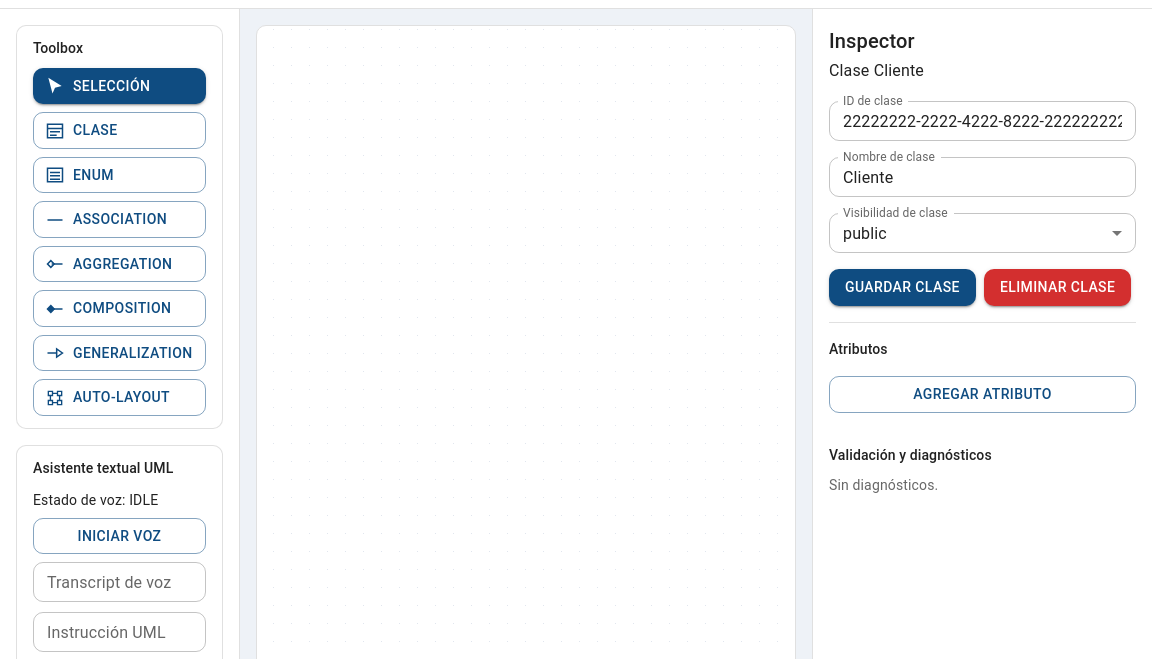
Scenario: Workspace UML manual › conserva clase y muestra diagnostics cuando DeleteClass tiene una referencia de tipo
Click the button "Eliminar clase" at (1058, 287), box [984,269,1131,306]
(page scrolled)
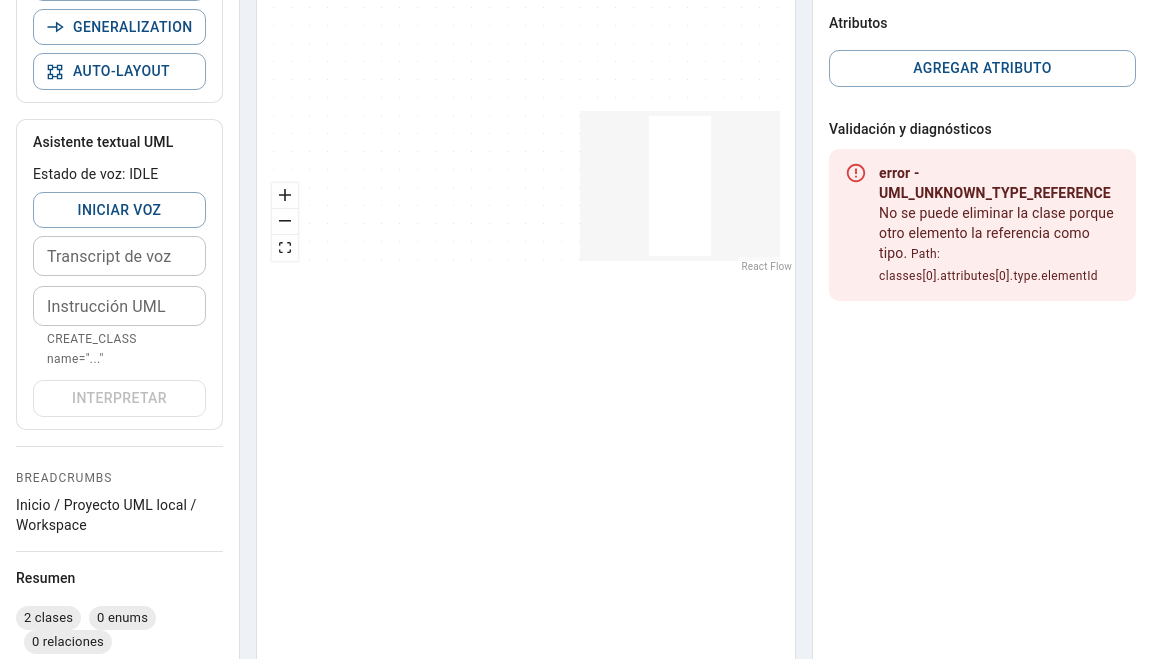
Expected: the button "Nodo clase Cliente" is shown, [256,294,377,315]
Now the text "error - UML_UNKNOWN_TYPE_REFERENCE" is shown, box [879,165,1111,201]
